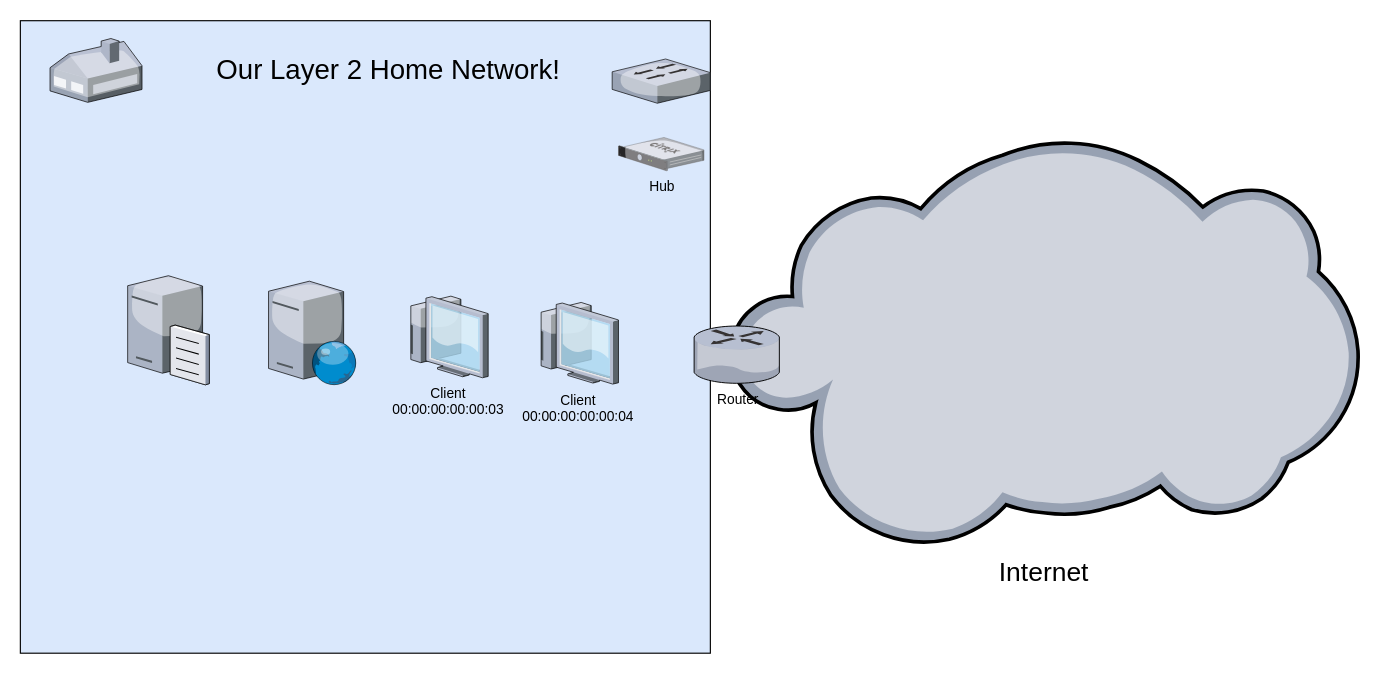
This 1379x673 diagram has some shape labels left out. Here are the shapes that lost their labels. From the top down, the centre of each, then its label:
the point at 661,80: Switch
the point at 168,328: File Server 00:00:00:00:00:01
the point at 312,332: Web Server 00:00:00:00:00:02
